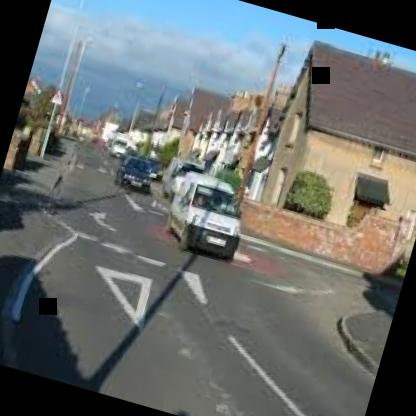car: (146, 164, 268, 300), (99, 146, 161, 211)
